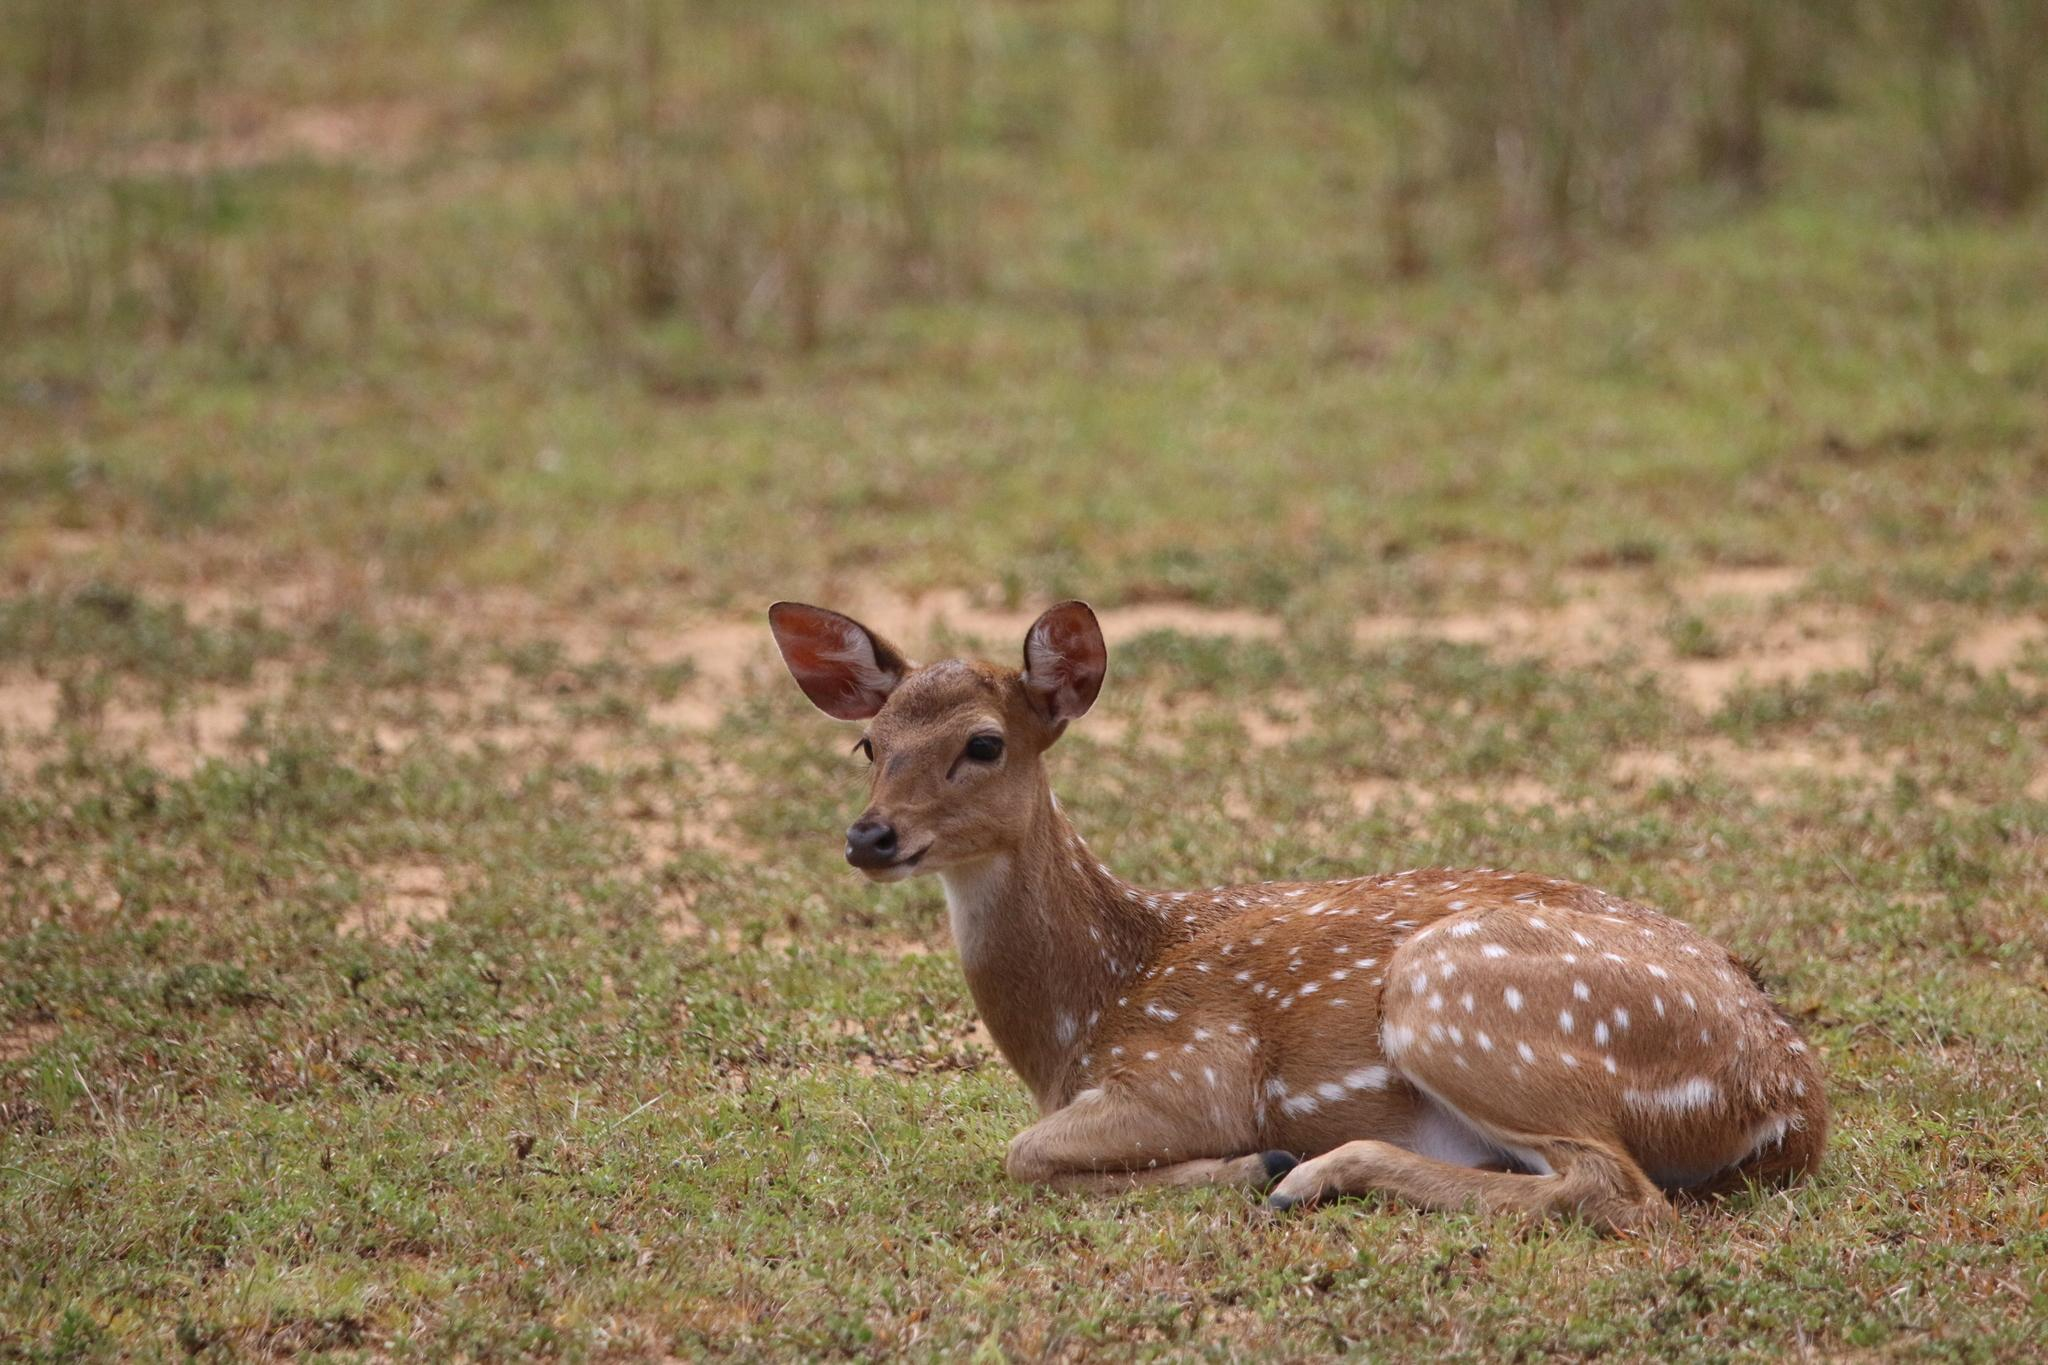Deer: (769, 602, 1827, 1226)
